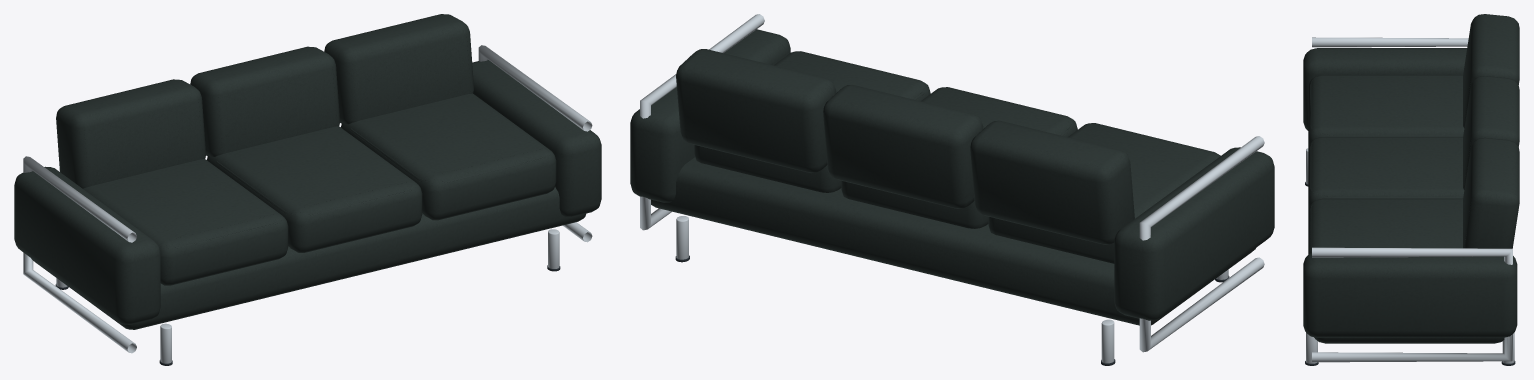
File: metal-frame-sofa.glb
The picture shows the model from 3 angles, left to right: view 1: azimuth 30°, elevation 25°; view 2: azimuth 150°, elevation 25°; view 3: azimuth 270°, elevation 25°; orthographic projection. The views are drawn at different scales.
Parts seen in each view (by area): view 1: metal-frame-sofa authored assembly; view 2: metal-frame-sofa authored assembly; view 3: metal-frame-sofa authored assembly.
Part boxes in pixels (bbox=[...]): metal-frame-sofa authored assembly: bbox=[14, 14, 601, 365]; metal-frame-sofa authored assembly: bbox=[630, 14, 1274, 365]; metal-frame-sofa authored assembly: bbox=[1303, 14, 1519, 365].
Bounding box in the file's own units: 2.2 × 0.79 × 0.9.
4 materials, 1 textured.
